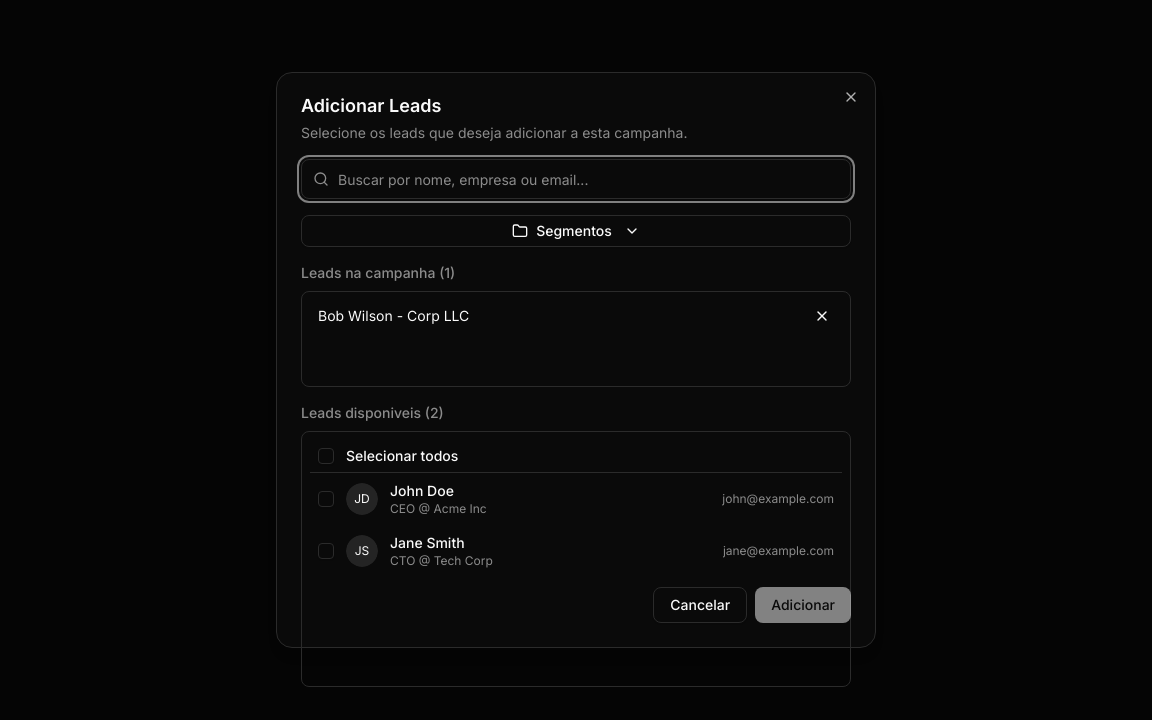
Test: AddLeadsDialog (Story 5.7 + 12.7) › Lead Selection (AC #3) › toggles individual lead selection on click
Click the button with test id "lead-row-lead-1" at (362,499), box [310, 473, 842, 525]
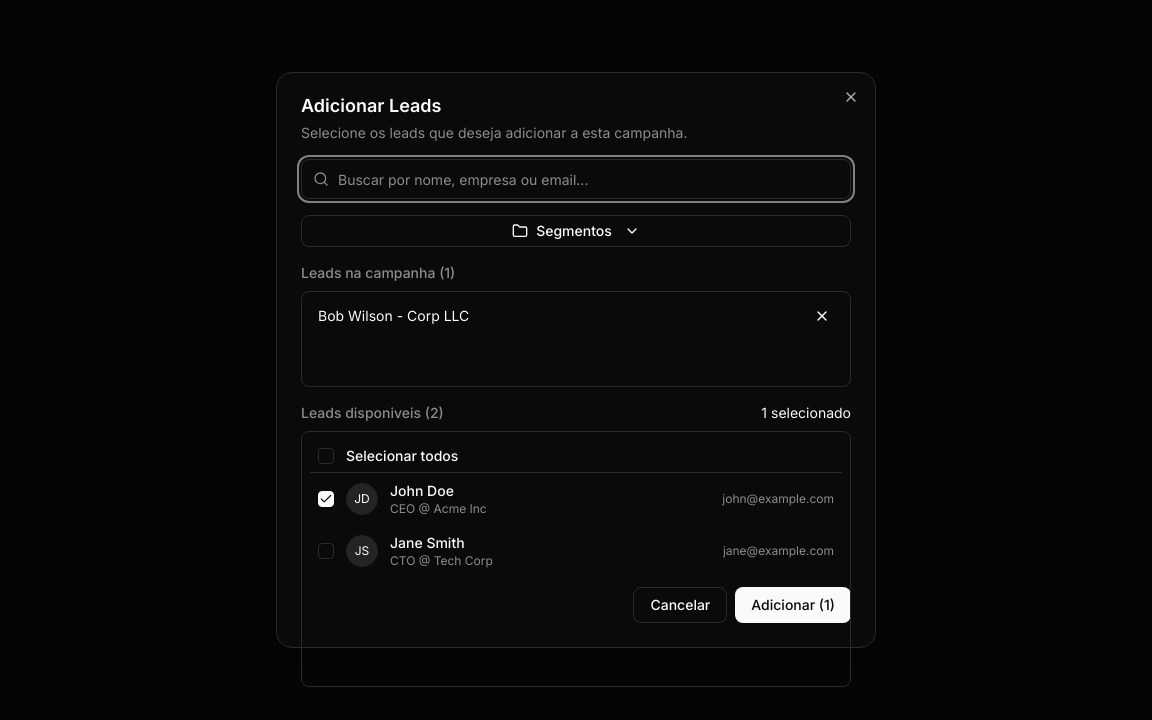
Result: the text "1 selecionado" is shown at [761, 403, 851, 423]
